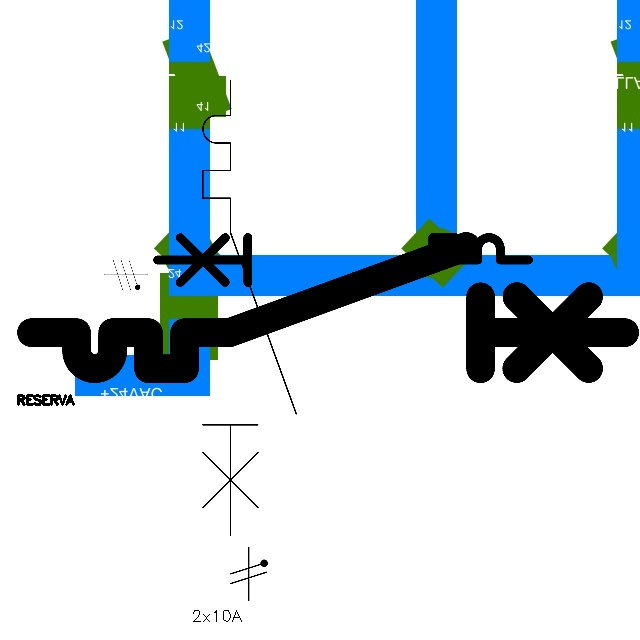interruptor_termomagnetico: (16, 231, 640, 384), (191, 69, 308, 547), (148, 228, 538, 323)
